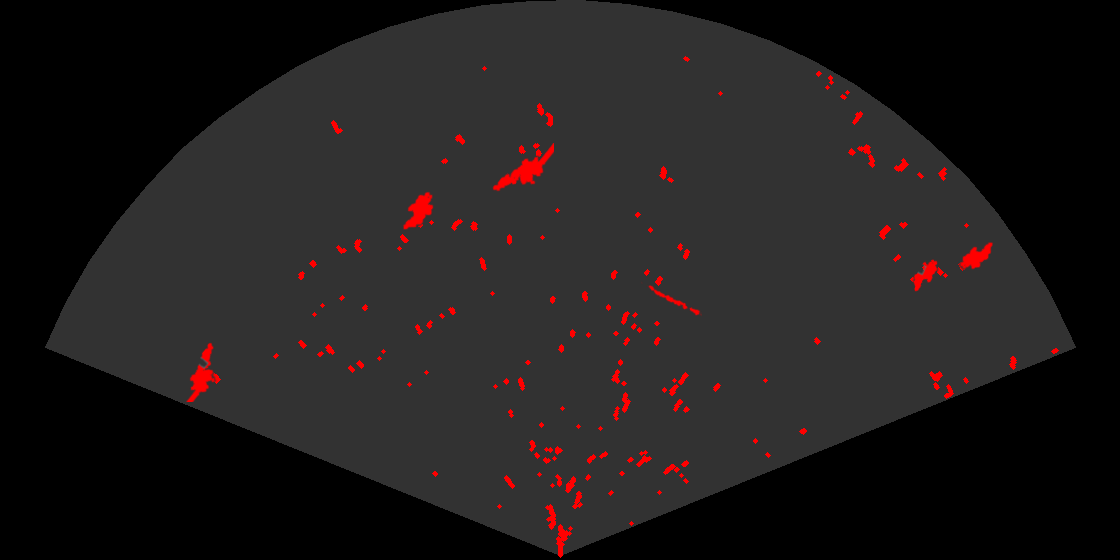AUV: (401, 190, 435, 231), (958, 240, 995, 271), (912, 258, 939, 293)
chain: (641, 281, 702, 318)
frogman: (491, 143, 554, 193), (184, 341, 217, 402)
